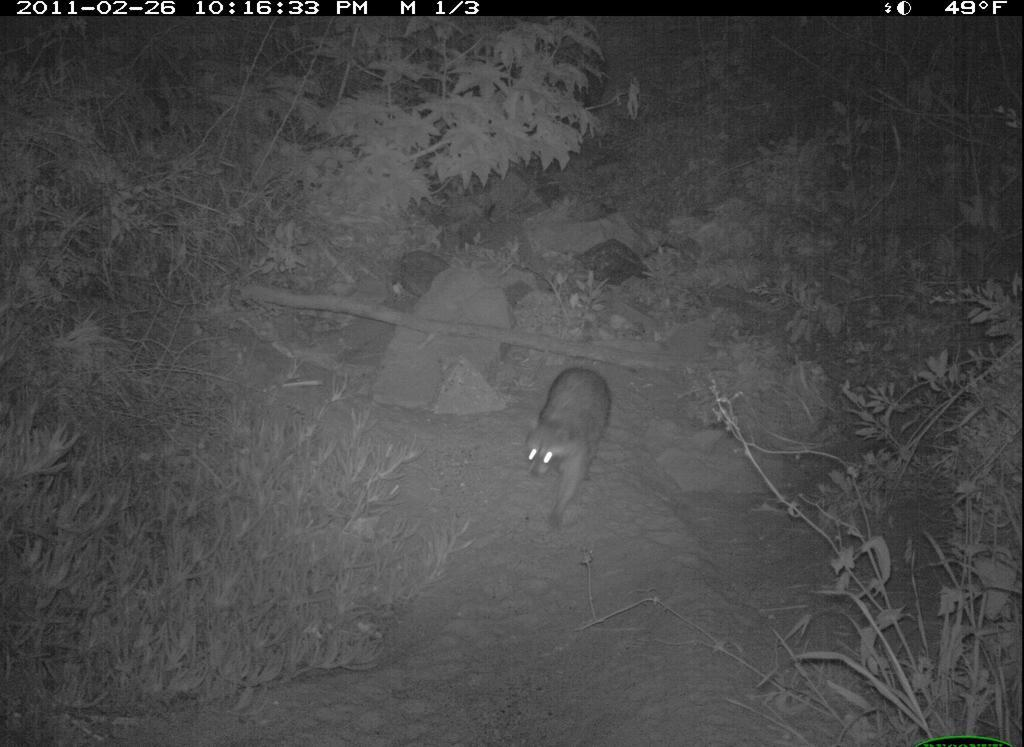raccoon: (520, 354, 621, 530)
